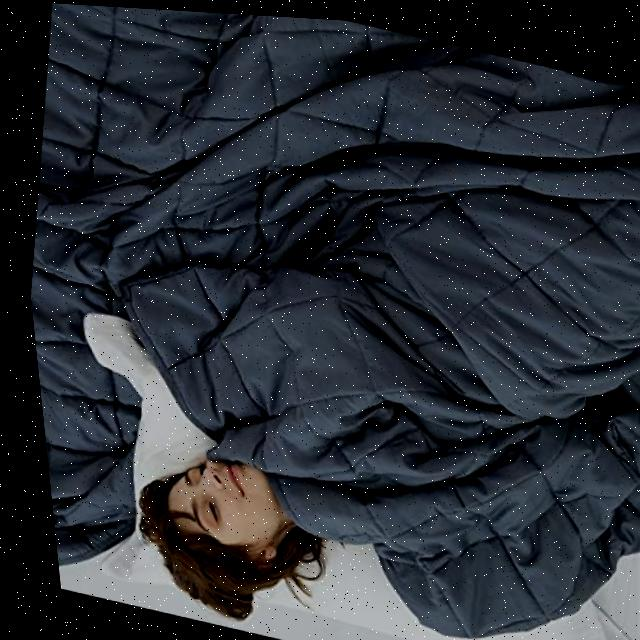sleeping-person: (54, 3, 640, 640)
